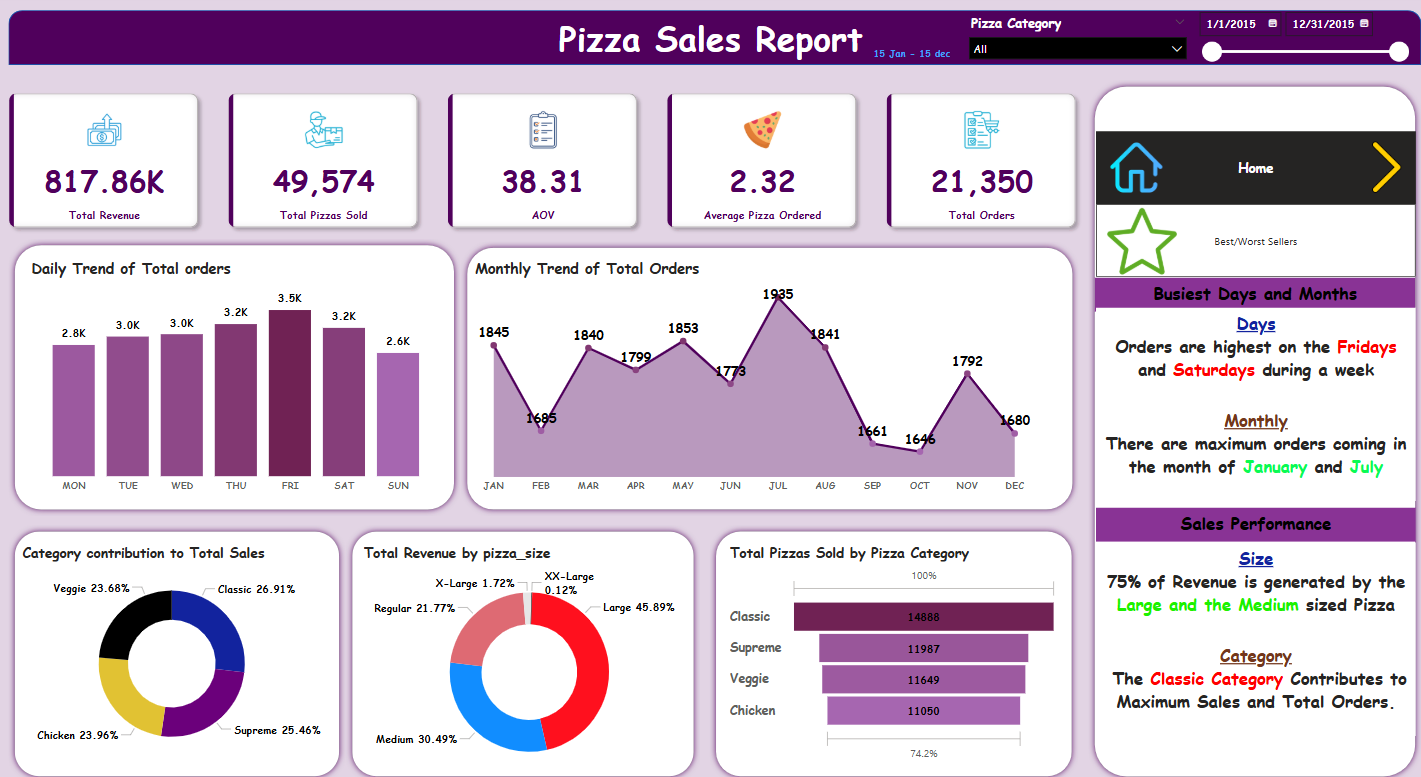

The page's visual inventory and layout, read from the dashboard file:
{"tool":"powerbi","page":{"name":"Home","canvas":[1834,1000],"ordinal":0},"visuals":[{"type":"cardVisual","fields":{"Data":["pizza_sales.Total Revenue","pizza_sales.Total Pizzas Sold","pizza_sales.AOV","pizza_sales.Average Pizza Ordered","pizza_sales.Total Orders"]},"box":[0,103.3,1395,205],"z":0},{"type":"shape","box":[16.7,15,1803.3,70],"z":1000},{"type":"textbox","box":[675,15,475,70],"z":2000},{"type":"textbox","box":[1115,55,130,30],"z":3000},{"type":"shape","box":[16.7,306.7,576.7,353.3],"z":4000},{"type":"columnChart","title":"Daily Trend of Total orders","fields":{"Category":["pizza_sales.Day"],"Y":["pizza_sales.Total Orders"]},"box":[40,330,534.3,310],"z":5000},{"type":"shape","box":[593.3,310,788.3,350],"z":6000},{"type":"areaChart","title":"Monthly Trend of Total Orders","fields":{"Category":["pizza_sales.Month"],"Y":["pizza_sales.Total Orders"]},"box":[606.7,330,723.3,310],"z":7000},{"type":"shape","box":[16.7,671.7,430,328.3],"z":8000},{"type":"donutChart","title":"Category contribution to Total Sales","fields":{"Category":["pizza_sales.pizza_category"],"Y":["pizza_sales.Total Revenue"]},"box":[28.3,693.3,391.7,285],"z":9000},{"type":"shape","box":[446.7,671.7,451.7,328.3],"z":10000},{"type":"shape","box":[911.7,671.7,470,328.3],"z":11000},{"type":"donutChart","fields":{"Category":["pizza_sales.pizza_size"],"Y":["pizza_sales.Total Revenue"]},"box":[465,693.3,433.3,306.7],"z":12000},{"type":"funnel","title":"Total Pizzas Sold by Pizza Category","fields":{"Category":["pizza_sales.pizza_category"],"Y":["pizza_sales.Total Pizzas Sold"]},"box":[931.7,693.3,428.3,285],"z":13000},{"type":"shape","box":[1395,103.3,425,896.7],"z":14000},{"type":"textbox","box":[1403,355,409,43],"z":15000},{"type":"textbox","box":[1403.3,393.3,408.3,246.7],"z":16000},{"type":"textbox","box":[1403.3,650,408.3,43.3],"z":17000},{"type":"textbox","box":[1403.3,693.3,408.3,246.7],"z":18000},{"type":"slicer","fields":{"Values":["pizza_sales.pizza_category"]},"box":[1231.7,15,298.3,63.3],"z":19000},{"type":"slicer","fields":{"Values":["pizza_sales.order_date"]},"box":[1523.3,6.7,288.3,88.3],"z":20000},{"type":"pageNavigator","box":[1403.3,168.3,408.3,93.3],"z":21000},{"type":"pageNavigator","box":[1403.3,261.7,408.3,93.3],"z":22000},{"type":"image","box":[1736.7,175,75,78.3],"z":23000},{"type":"image","box":[1413.5,177.1,84.6,76.6],"z":24000},{"type":"image","box":[1413.5,260.1,98.9,98.9],"z":25000}]}

Visuals, with their boxes in screenshot pixels (x1, y1, x2, y2), scaled from the page's 1834x1000 canvas onto the 1421x777 screenshot:
cardVisual - pizza_sales.Total Revenue x pizza_sales.Total Pizzas Sold: <bbox>0, 80, 1081, 240</bbox>
shape: <bbox>13, 12, 1410, 66</bbox>
textbox: <bbox>523, 12, 891, 66</bbox>
textbox: <bbox>864, 43, 965, 66</bbox>
shape: <bbox>13, 238, 460, 513</bbox>
"Daily Trend of Total orders" columnChart: <bbox>31, 256, 445, 497</bbox>
shape: <bbox>460, 241, 1070, 513</bbox>
"Monthly Trend of Total Orders" areaChart: <bbox>470, 256, 1030, 497</bbox>
shape: <bbox>13, 522, 346, 776</bbox>
"Category contribution to Total Sales" donutChart: <bbox>22, 539, 325, 760</bbox>
shape: <bbox>346, 522, 696, 776</bbox>
shape: <bbox>706, 522, 1071, 776</bbox>
donutChart - pizza_sales.pizza_size x pizza_sales.Total Revenue: <bbox>360, 539, 696, 776</bbox>
"Total Pizzas Sold by Pizza Category" funnel: <bbox>722, 539, 1054, 760</bbox>
shape: <bbox>1081, 80, 1410, 776</bbox>
textbox: <bbox>1087, 276, 1404, 309</bbox>
textbox: <bbox>1087, 306, 1404, 497</bbox>
textbox: <bbox>1087, 505, 1404, 539</bbox>
textbox: <bbox>1087, 539, 1404, 730</bbox>
slicer - pizza_sales.pizza_category: <bbox>954, 12, 1185, 61</bbox>
slicer - pizza_sales.order_date: <bbox>1180, 5, 1404, 74</bbox>
pageNavigator: <bbox>1087, 131, 1404, 203</bbox>
pageNavigator: <bbox>1087, 203, 1404, 276</bbox>
image: <bbox>1346, 136, 1404, 197</bbox>
image: <bbox>1095, 138, 1161, 197</bbox>
image: <bbox>1095, 202, 1172, 279</bbox>
